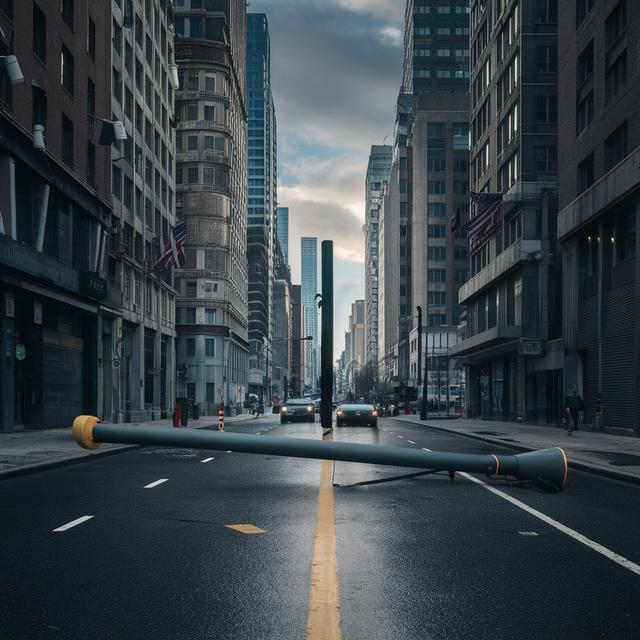Inclined Pole: (72, 404, 578, 510)
